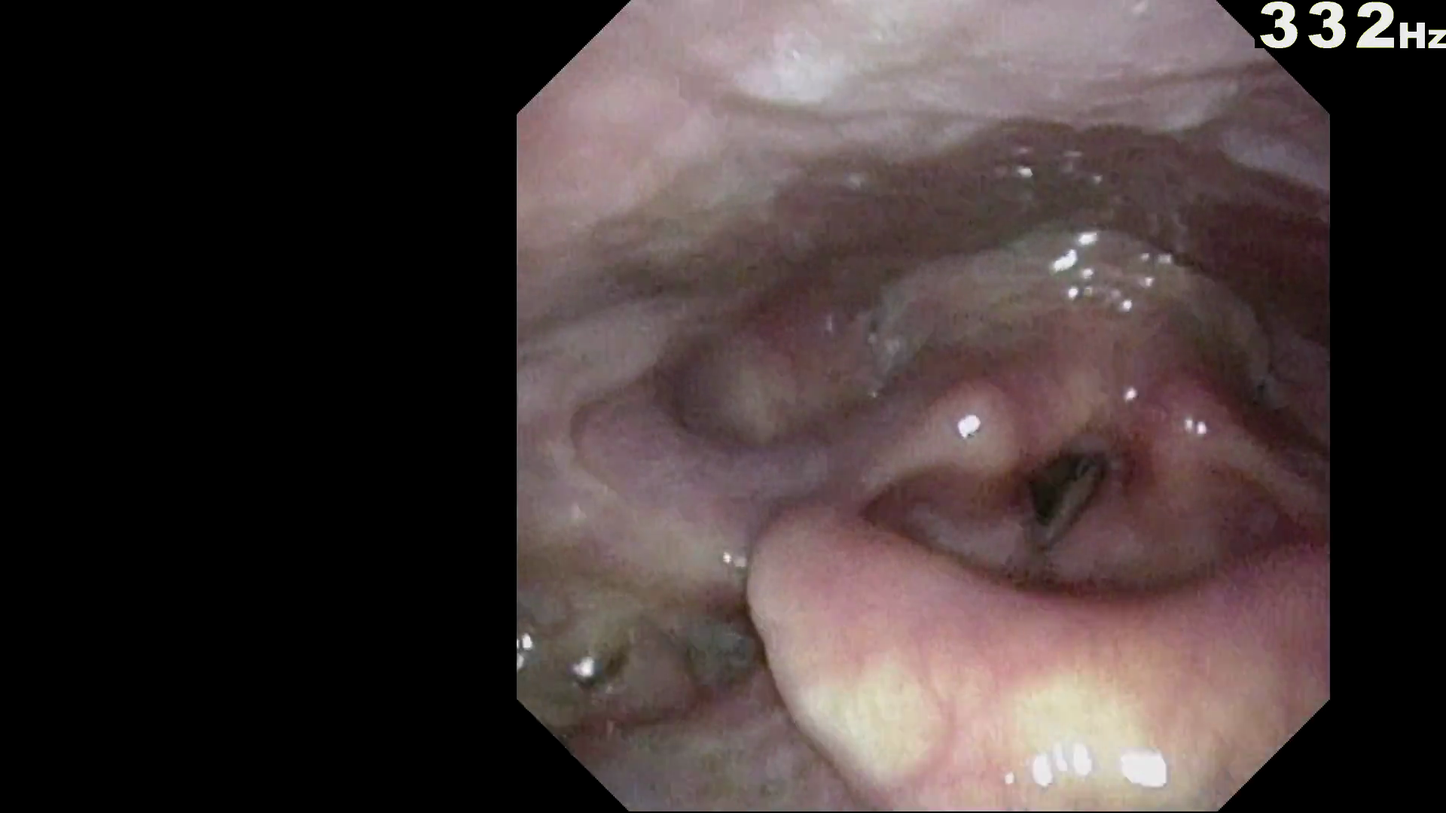epiglottis: (721, 430, 1318, 665), (702, 366, 1320, 592)
trachea: (1014, 414, 1135, 534)
